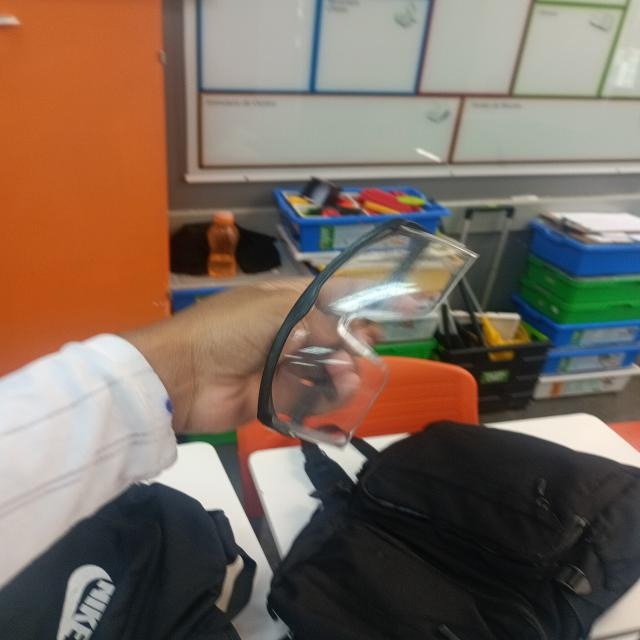oculos-epi: (258, 220, 477, 446)
